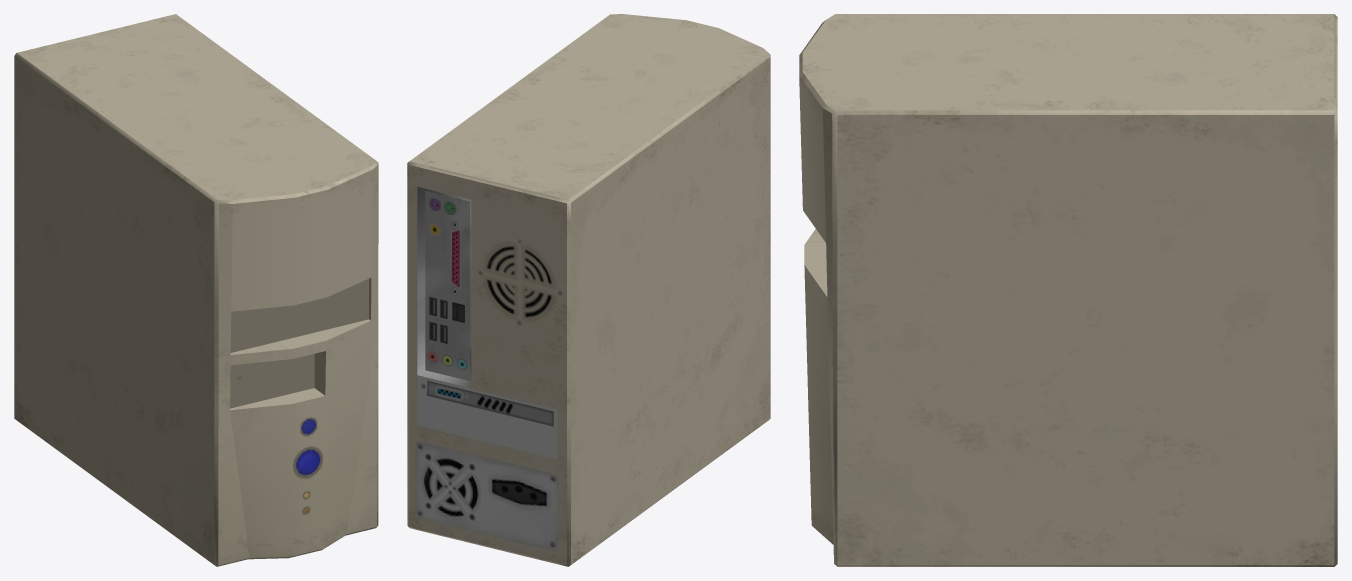
Rendered from Computer.fbx.
3 renders of one model, left to right at view 1: azimuth 30°, elevation 25°; view 2: azimuth 150°, elevation 25°; view 3: azimuth 270°, elevation 25°, orthographic. The views are drawn at different scales.
Parts seen in each view (by area): view 1: Computer; view 2: Computer; view 3: Computer.
Part boxes in pixels (box(x1,y1,x2,y2)): Computer: box(14, 14, 378, 566); Computer: box(407, 14, 770, 566); Computer: box(799, 14, 1337, 566).
Bounding box in the file's own units: 28 × 60 × 64.16.
